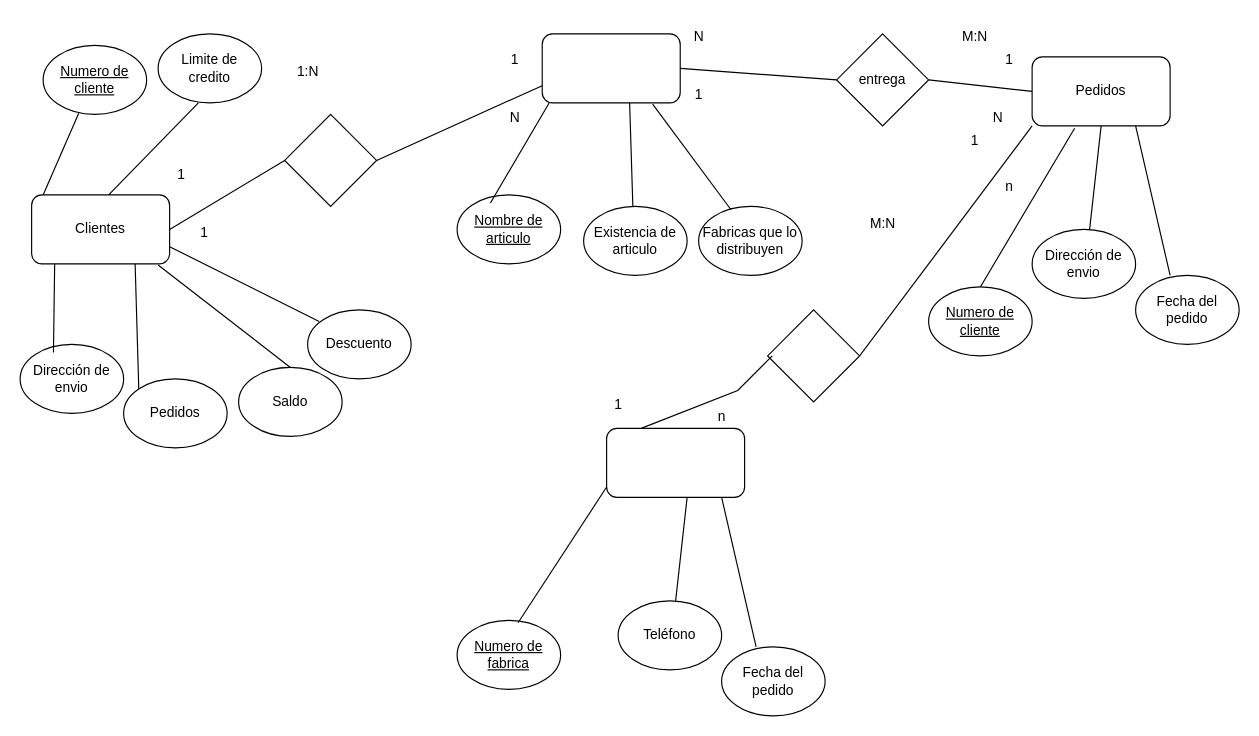
The diagram is 1259 pixels wide and 736 high, and some of its shapes have lost their labels. The shapes that lost their labels are listed below. From the top down, each one's centre as x and y in pixels, then its label:
the point at 610,68: Articulos
the point at 330,159: Compra
the point at 813,355: Recibe
the point at 675,462: Fabrica
